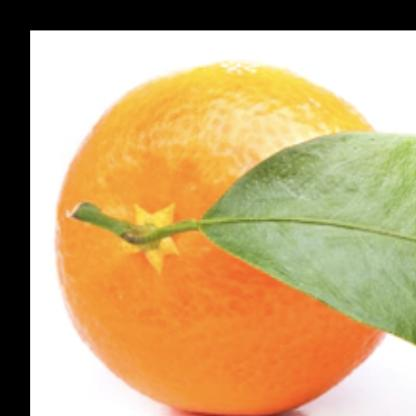fresh: (54, 62, 393, 416)
